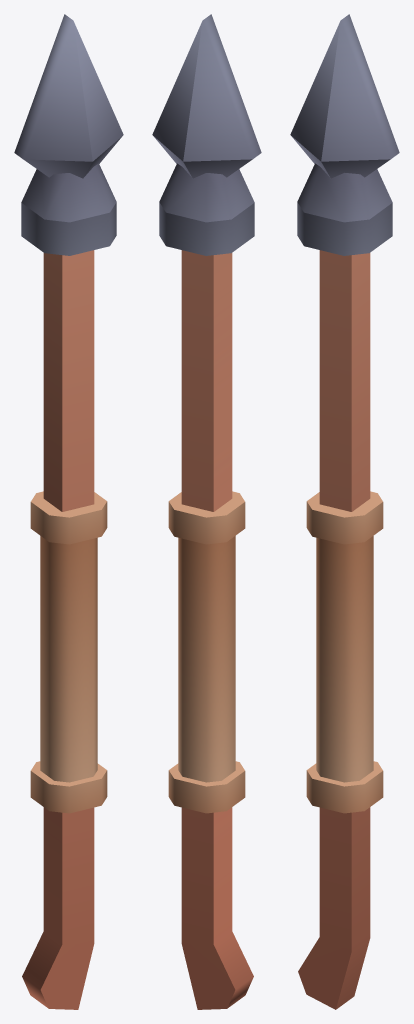
The model's file is spear-c.glb.
The picture shows the model from 3 angles, left to right: view 1: azimuth 30°, elevation 25°; view 2: azimuth 150°, elevation 25°; view 3: azimuth 330°, elevation 25°; orthographic projection.
Parts seen in each view (by area): view 1: spear-c; view 2: spear-c; view 3: spear-c.
Part boxes in pixels (left/top/right/bottom): spear-c: left=14, top=14, right=123, bottom=1009; spear-c: left=152, top=14, right=261, bottom=1009; spear-c: left=290, top=14, right=399, bottom=1009.
Bounding box in the file's own units: 0.587 × 5.5 × 0.4816.
